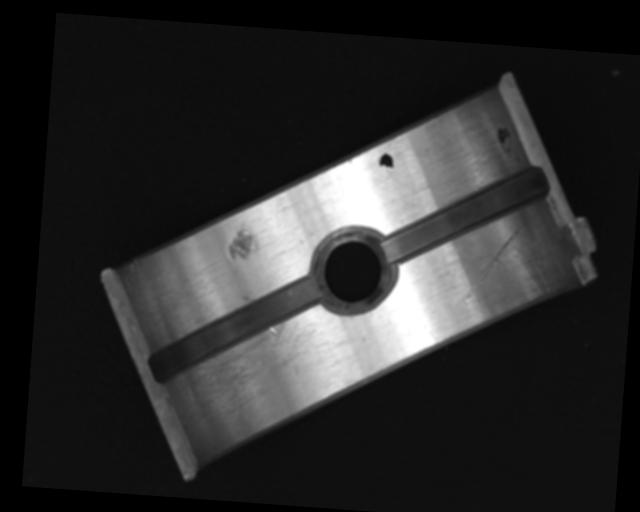blot: (497, 124, 512, 152), (378, 151, 394, 174)
bruise: (227, 220, 256, 262)
gap: (147, 263, 320, 392), (381, 155, 549, 273)
hole: (310, 223, 396, 315)
nick: (460, 220, 522, 308)
scratch: (187, 299, 313, 420)
